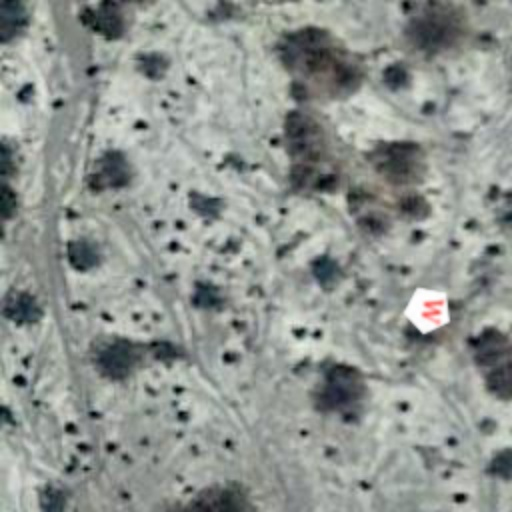pentagon: (398, 280, 458, 340)
